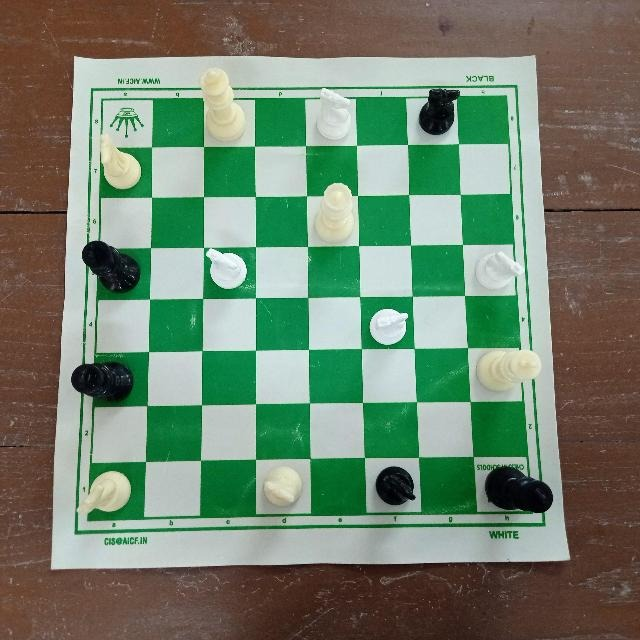black-king: (67, 351, 140, 405), (482, 466, 556, 518), (78, 240, 144, 297)
black-knight: (412, 88, 461, 136), (374, 463, 421, 512)
white-king: (472, 339, 543, 404), (197, 64, 249, 147)
white-knight: (91, 129, 145, 195), (80, 470, 137, 526), (470, 244, 524, 294), (203, 245, 253, 297), (257, 462, 310, 511), (311, 84, 355, 141), (368, 304, 414, 348)
white-queen: (309, 178, 359, 247)
